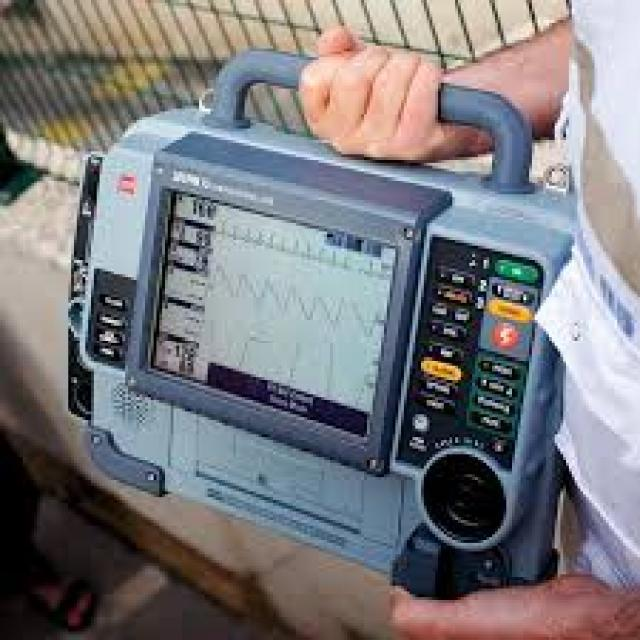cardiac_monitor: (117, 143, 545, 528)
